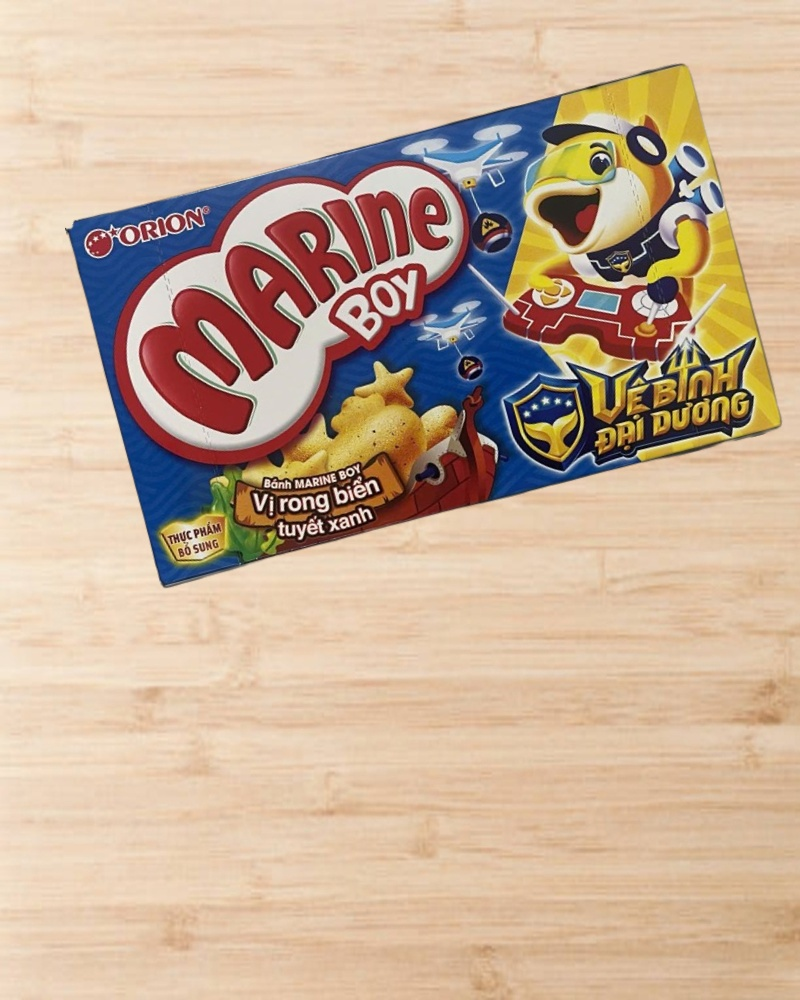Marine: (67, 57, 787, 593)
